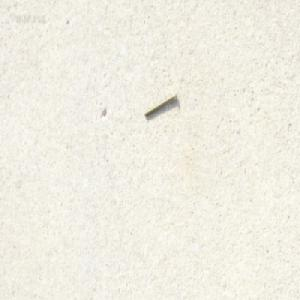Bolt: (143, 90, 176, 117)
